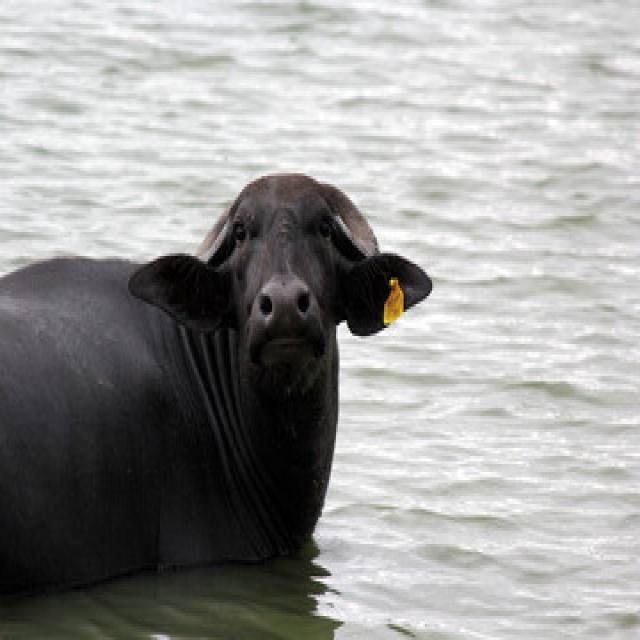Buffalo: (0, 168, 434, 603)
